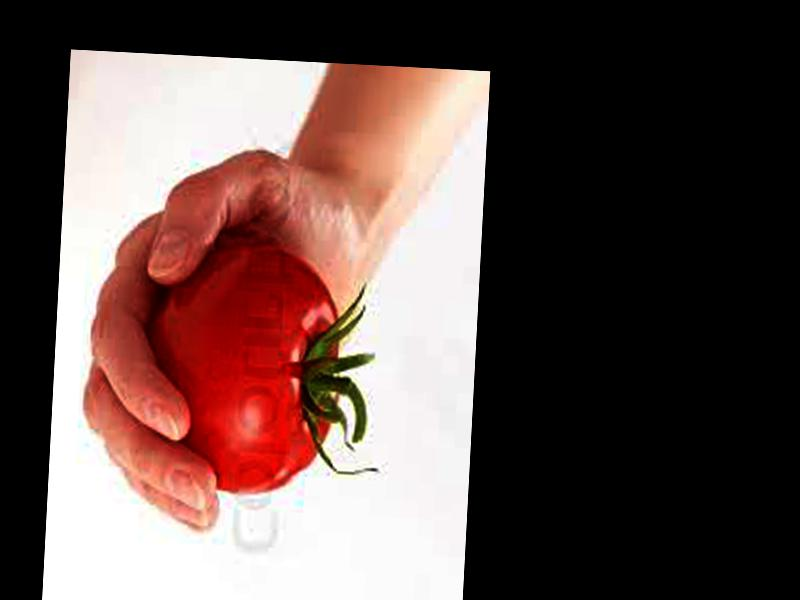Tomato: (141, 242, 347, 498)
